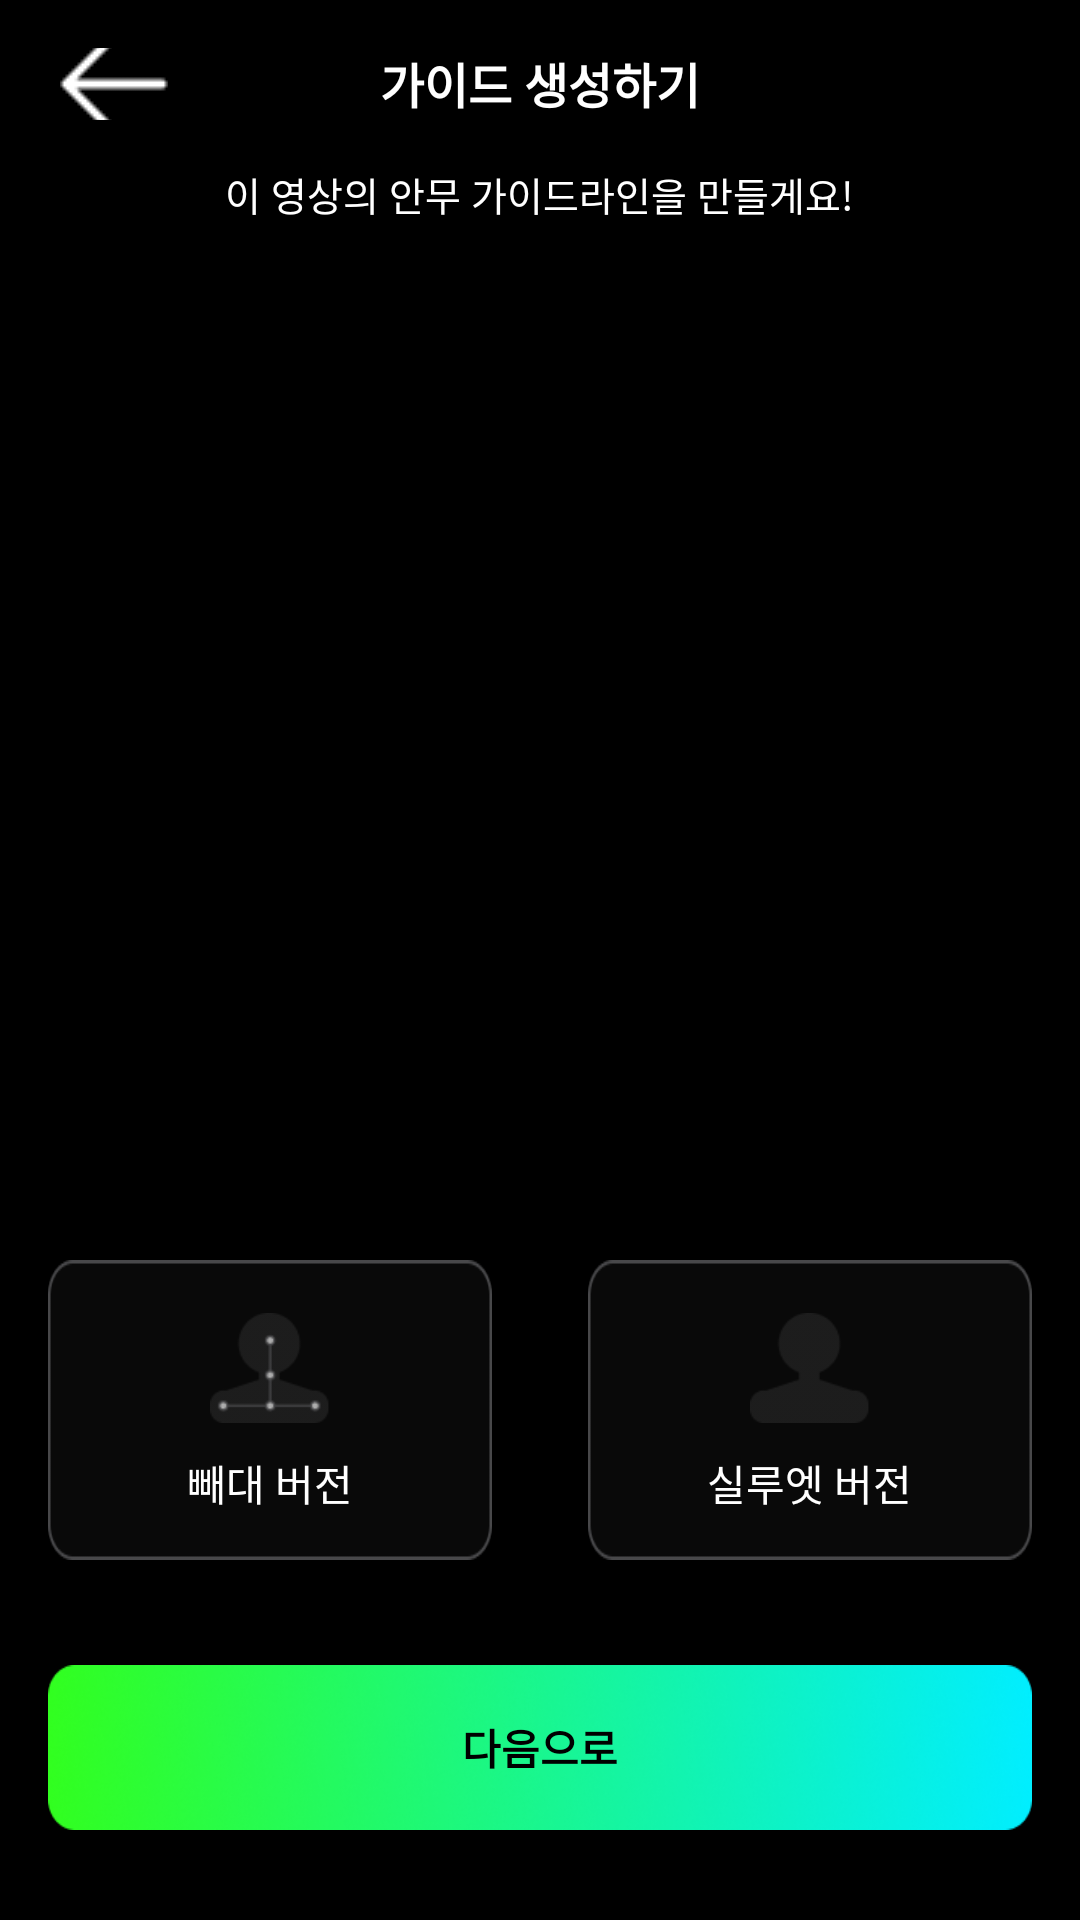

Icon click points for this 1080px×1920px phone screenshot, format point (x, y):
Back: point (114, 84)
